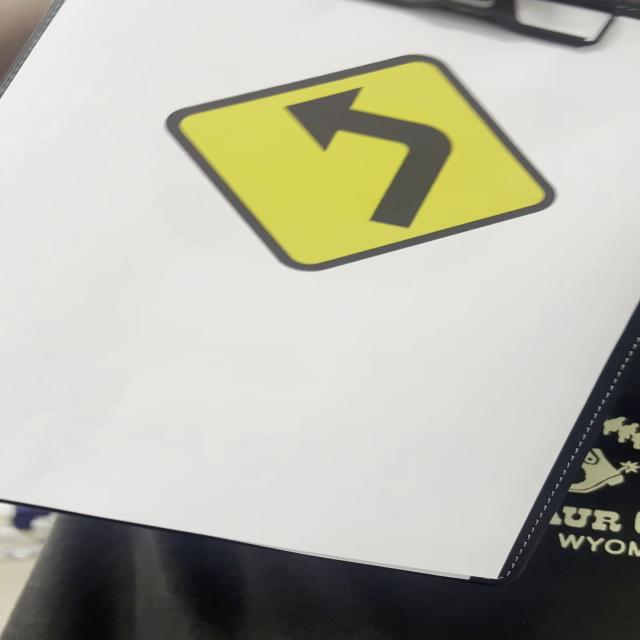left: (162, 52, 560, 273)
